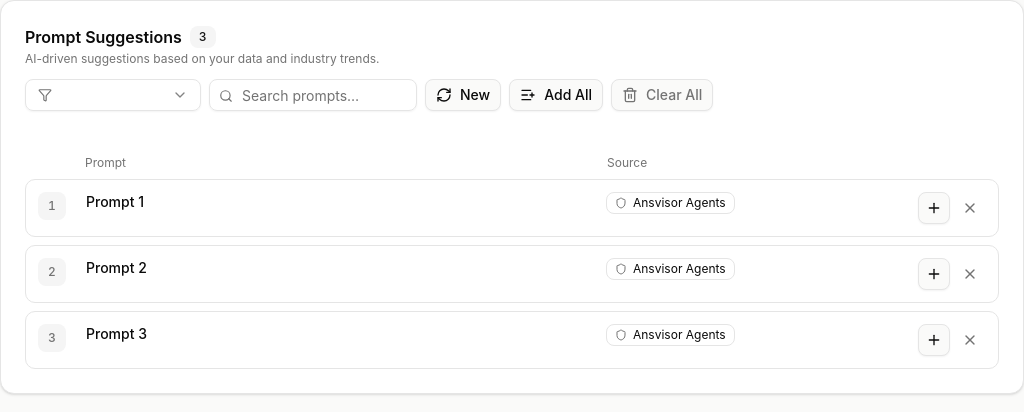
Test: SuggestionsCard — Add All › reports any other failure as an error and keeps what was not added
The image size is (1024, 412).
Click the button "Add All".
click(556, 95)  # box 509,79 -> 603,111
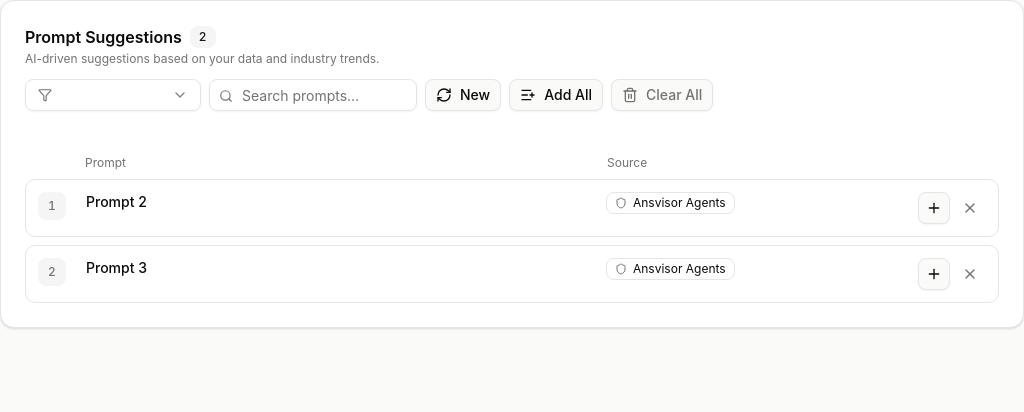
Now the number of list items is 2, box 25,179 -> 999,237; 25,245 -> 999,303
